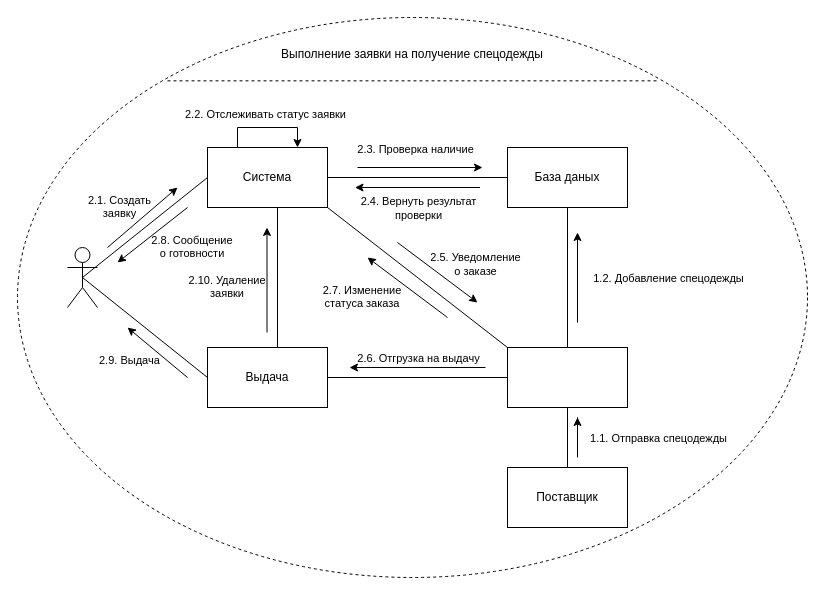
Image size: 825x595. Some labels were removed from this diagram. The shapes that lost their labels are listed below. From the top down, each one's centre as x and y in pixels, then its label:
At pixel 82 277: "Сотрудник".
At pixel 567 377: "Склад".
